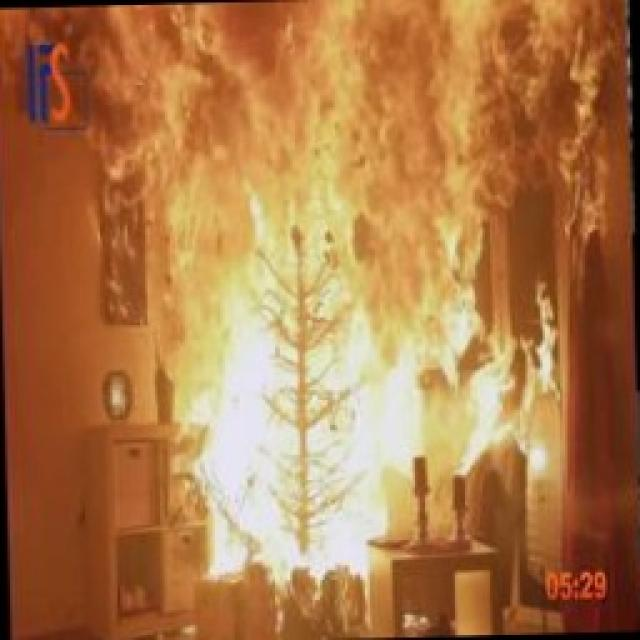fire: (1, 0, 603, 602)
